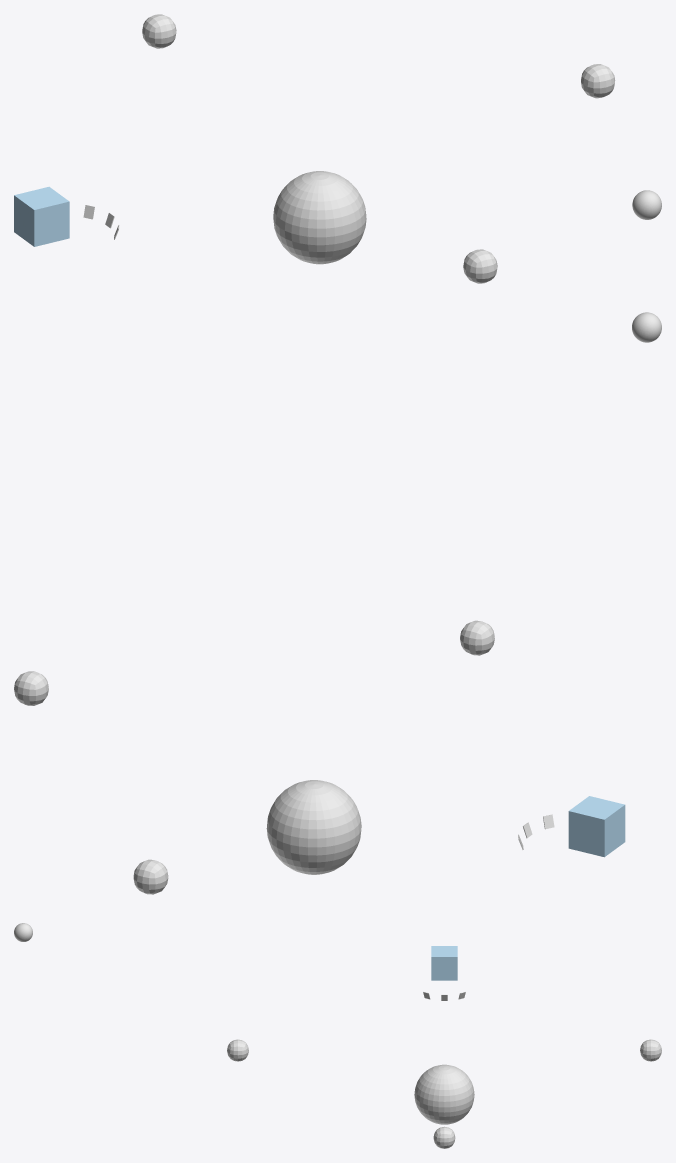
File: (OLD)Act1SimpleBlockingAnimation(To_UNITY_CLEANUPS).fbx
3 renders of one model, top to bottom at view 1: azimuth 30°, elevation 25°; view 2: azimuth 150°, elevation 25°; view 3: azimuth 270°, elevation 25°, orthographic. The views are drawn at different scales.
Parts seen in each view (by area): view 1: ArtistsLandscape.001, VRPlayerPlacement, BuddhaPlacement.003, BuddhaPlacement.001, BuddhaPlacement.002, SunCyclingSphere.001; view 2: ArtistsLandscape.001, VRPlayerPlacement, BuddhaPlacement.003, BuddhaPlacement.001, BuddhaPlacement.002; view 3: ArtistsLandscape.001, VRPlayerPlacement, BuddhaPlacement.003, BuddhaPlacement.001, BuddhaPlacement.002.
Boxes of the visible parts, x1,y1,x2,y2 form: ArtistsLandscape.001: (273, 171, 366, 264); VRPlayerPlacement: (14, 186, 69, 246); BuddhaPlacement.003: (142, 14, 176, 48); BuddhaPlacement.001: (463, 249, 497, 283); BuddhaPlacement.002: (581, 64, 615, 98); SunCyclingSphere.001: (632, 190, 661, 219); ArtistsLandscape.001: (266, 780, 361, 874); VRPlayerPlacement: (568, 796, 625, 857); BuddhaPlacement.003: (133, 859, 168, 894); BuddhaPlacement.001: (460, 620, 494, 655); BuddhaPlacement.002: (14, 671, 48, 705); ArtistsLandscape.001: (414, 1064, 474, 1124); VRPlayerPlacement: (431, 946, 457, 980); BuddhaPlacement.003: (640, 1039, 661, 1061); BuddhaPlacement.001: (227, 1039, 248, 1061); BuddhaPlacement.002: (433, 1126, 455, 1148).
Bounding box in the file's own units: 1995 × 998 × 2957.
